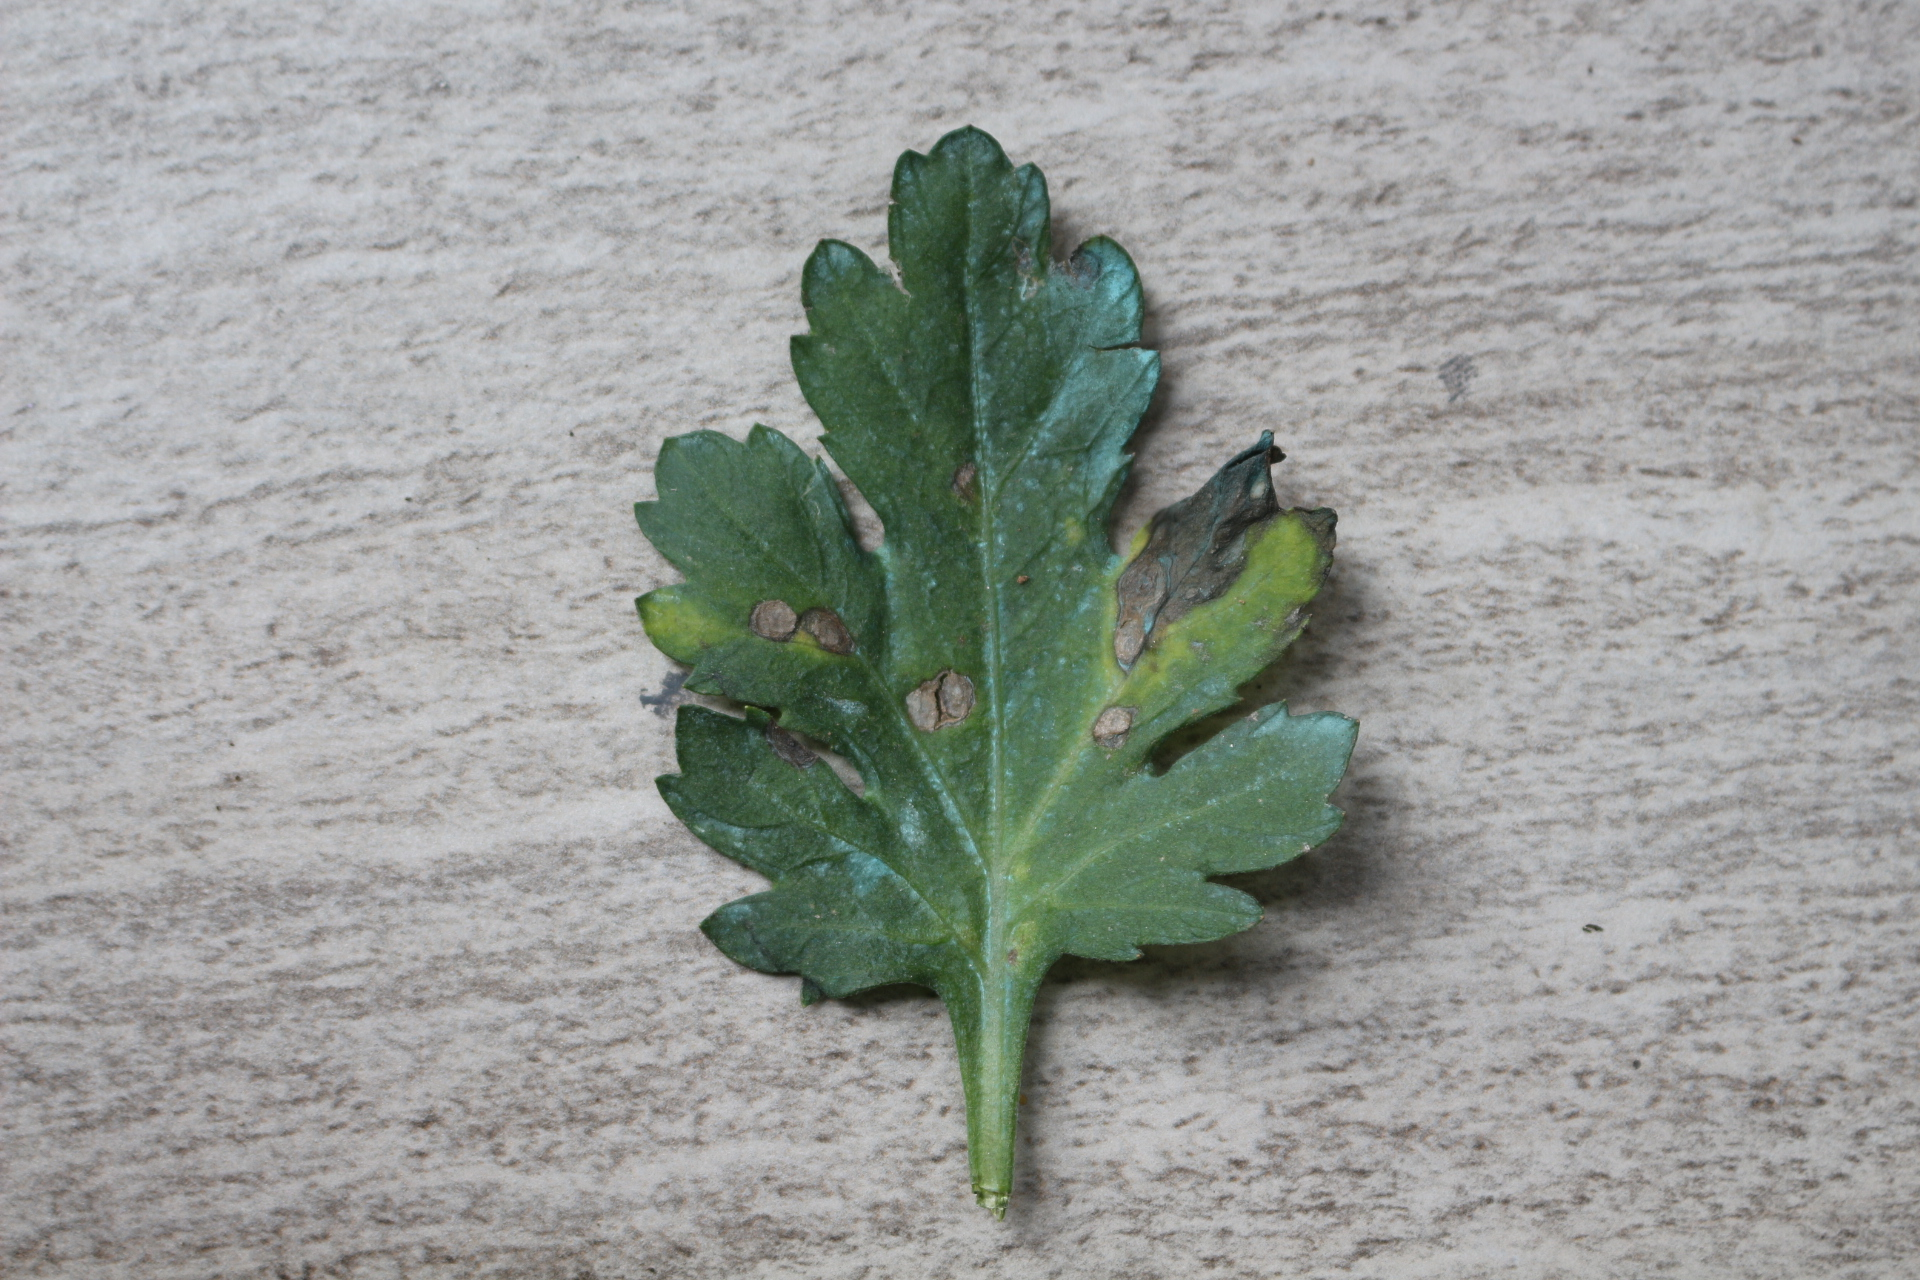namden: (749, 603, 860, 669), (901, 670, 981, 740), (1086, 704, 1146, 750), (943, 456, 991, 506)
